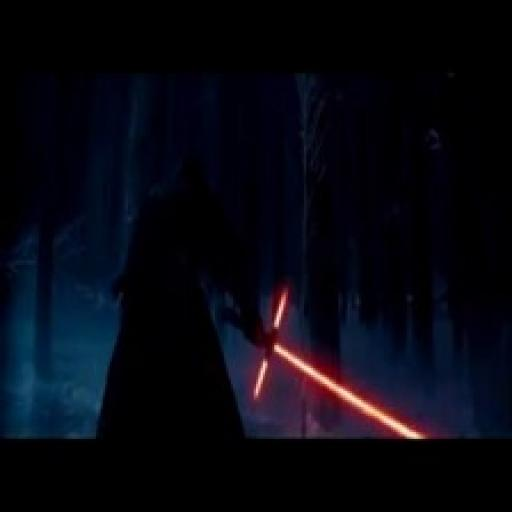human: (88, 152, 266, 447)
sith saber: (218, 283, 440, 440)
